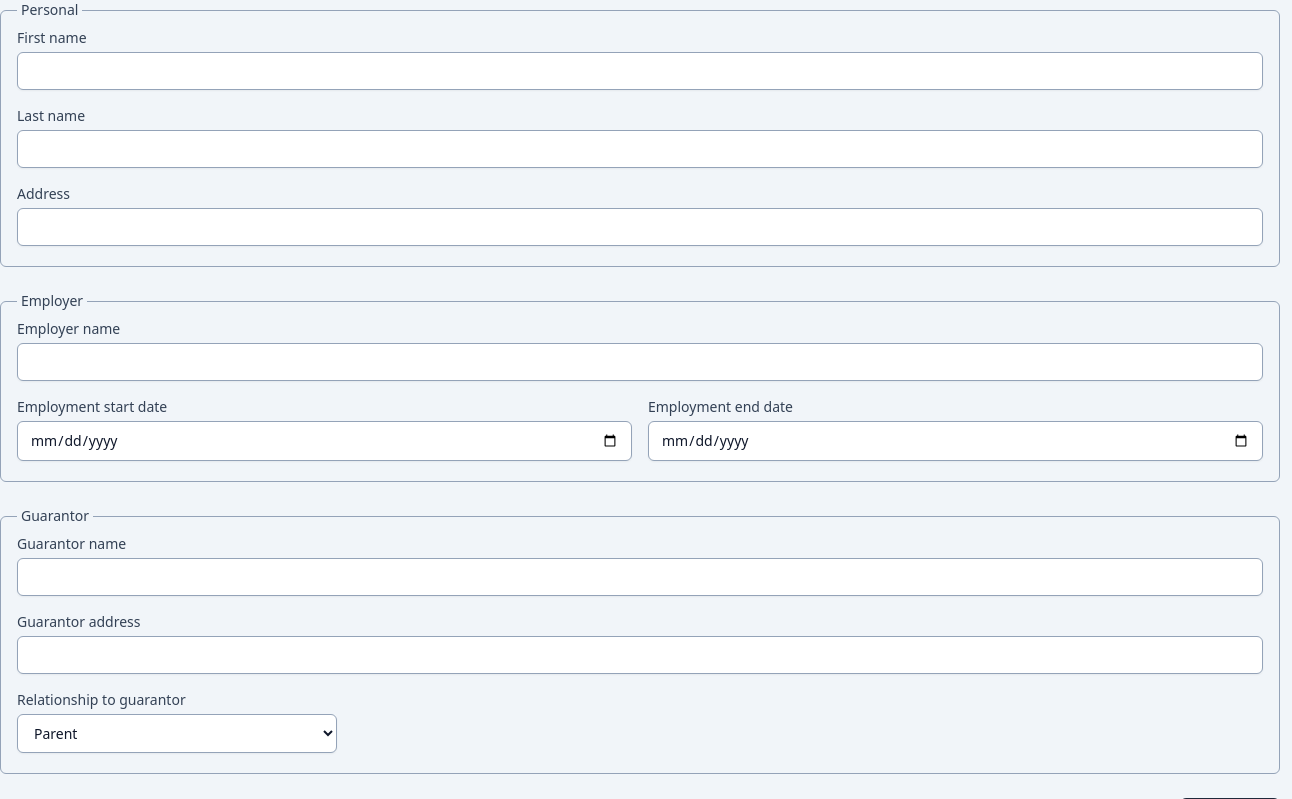
<ReferenceForm /> › clears the form when cancelled
In the field labelled "First name": (640, 71) left=17, top=52, right=1263, bottom=90, type "Ada"
(page scrolled)
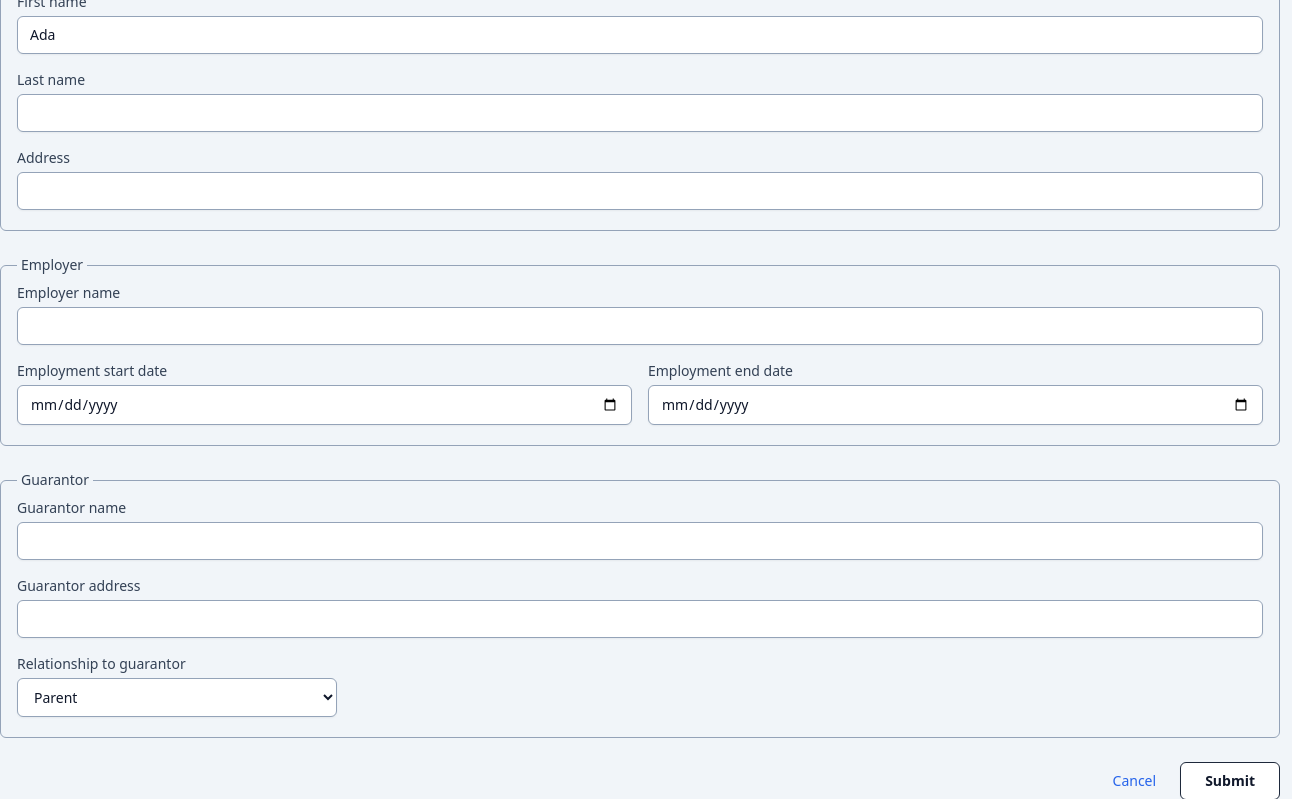
Click the button "Cancel": click(1134, 781) left=1112, top=771, right=1156, bottom=791
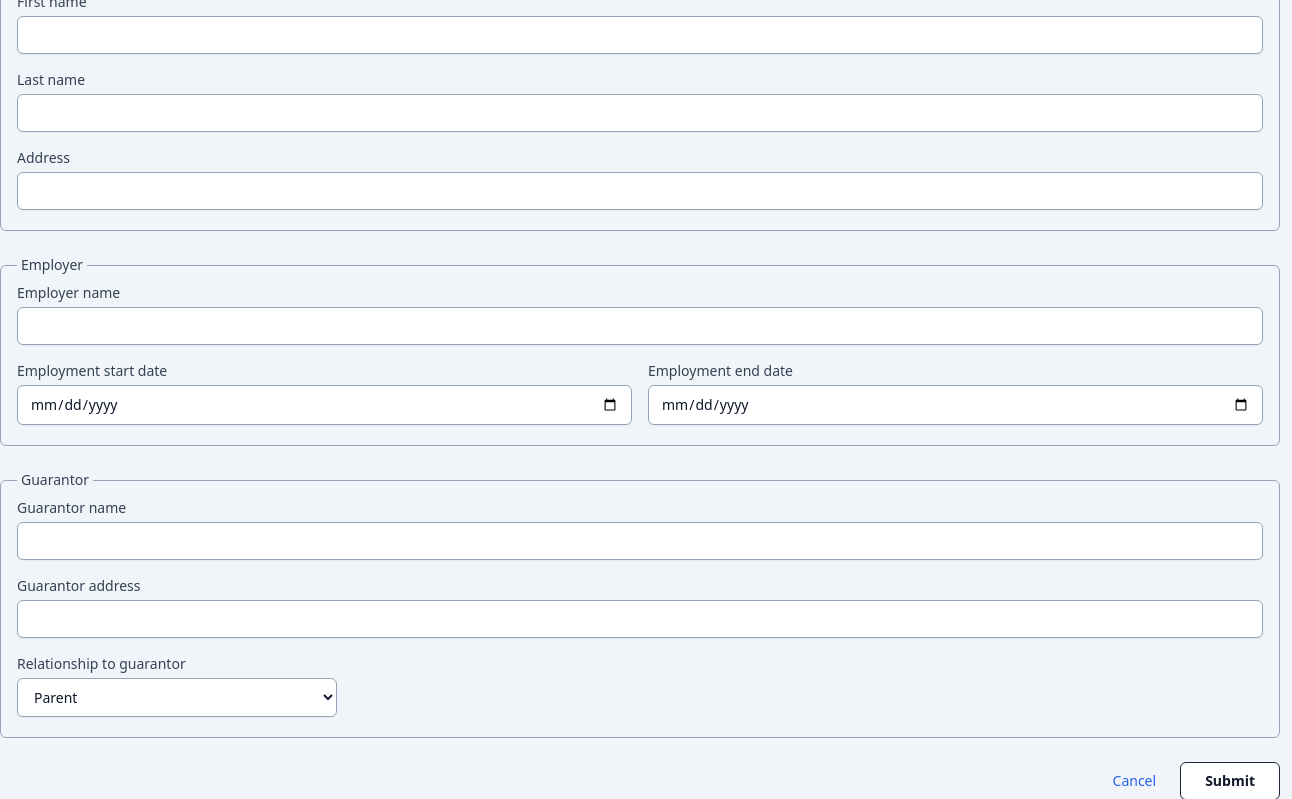
Now the field labelled "First name" is empty, box left=17, top=16, right=1263, bottom=54
